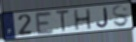2: (17, 13, 34, 37)
E: (34, 11, 55, 36)
H: (73, 8, 93, 32)
J: (95, 7, 110, 29)
S: (112, 4, 130, 28)
T: (55, 9, 71, 34)
